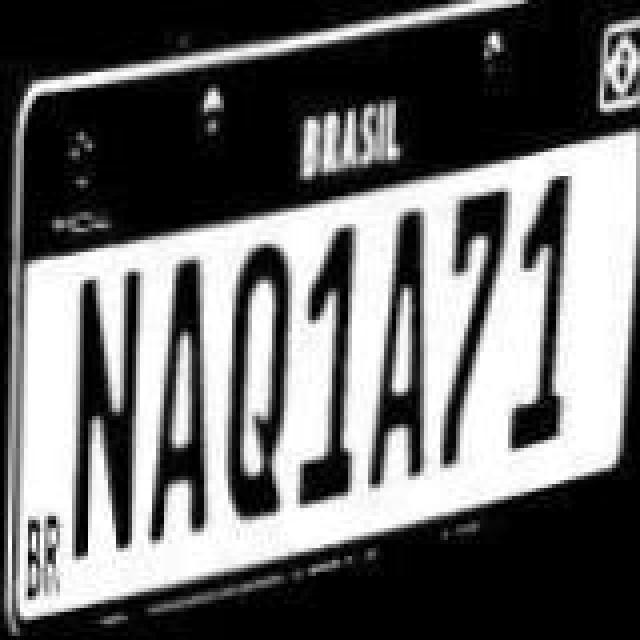1: (512, 166, 588, 458), (306, 212, 378, 512)
7: (440, 178, 516, 470)
A: (146, 252, 222, 556), (372, 194, 440, 486)
N: (70, 268, 154, 572)
Q: (222, 230, 298, 534)
